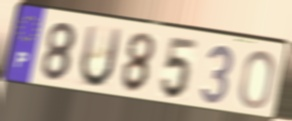3: (199, 42, 237, 106)
5: (159, 34, 200, 101)
8: (120, 31, 157, 96), (39, 21, 77, 83)
O: (237, 48, 278, 112)
U: (78, 23, 125, 91)
